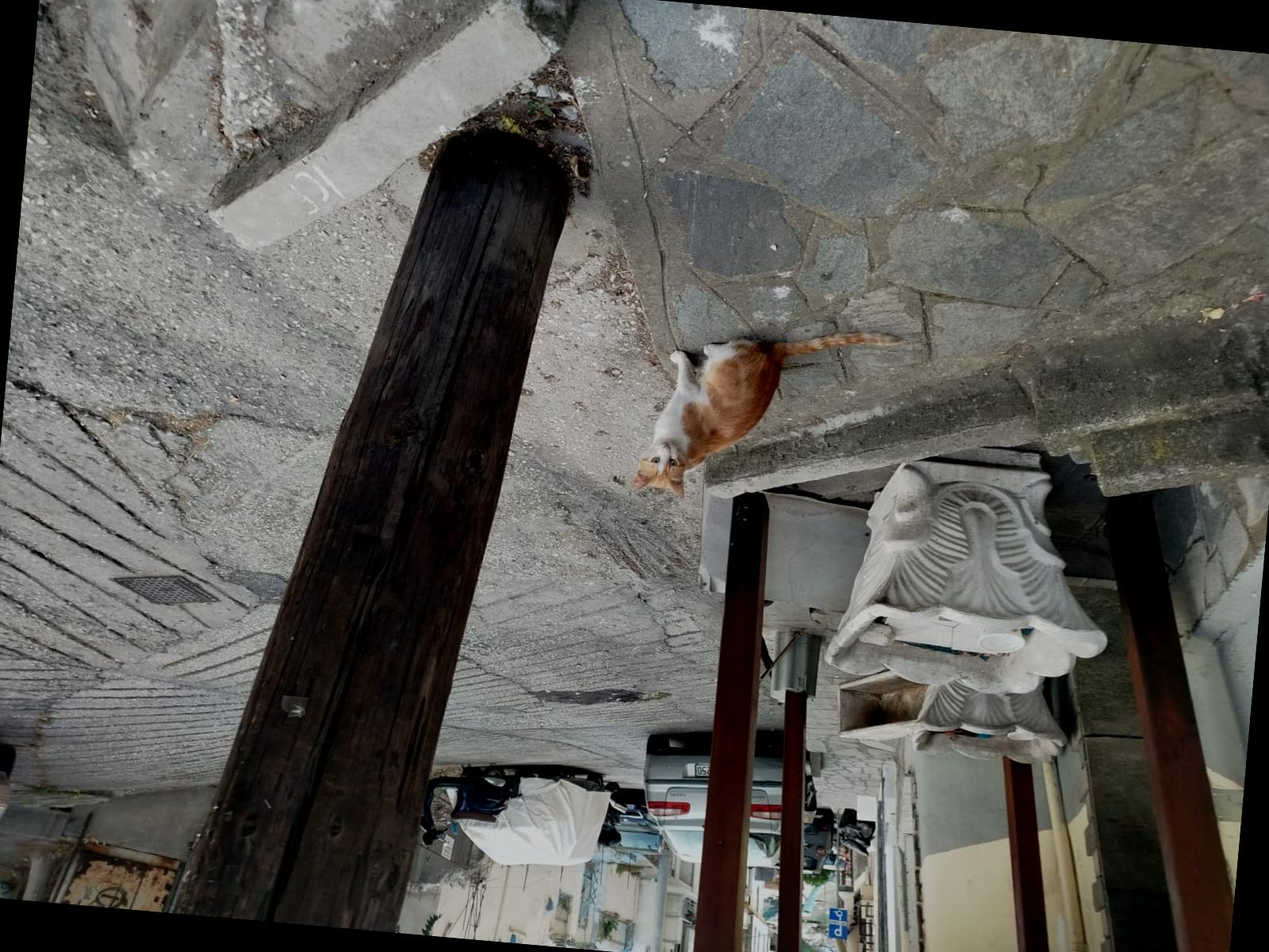macka: (633, 311, 901, 517)
